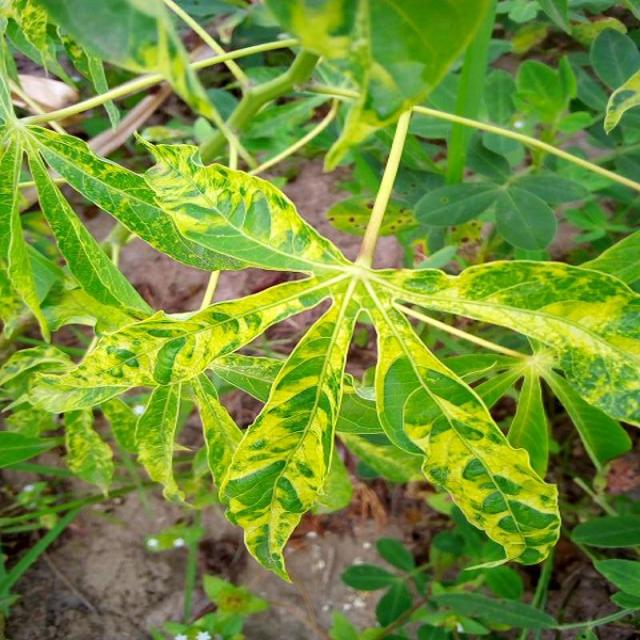cassava leaf: (15, 116, 638, 582)
